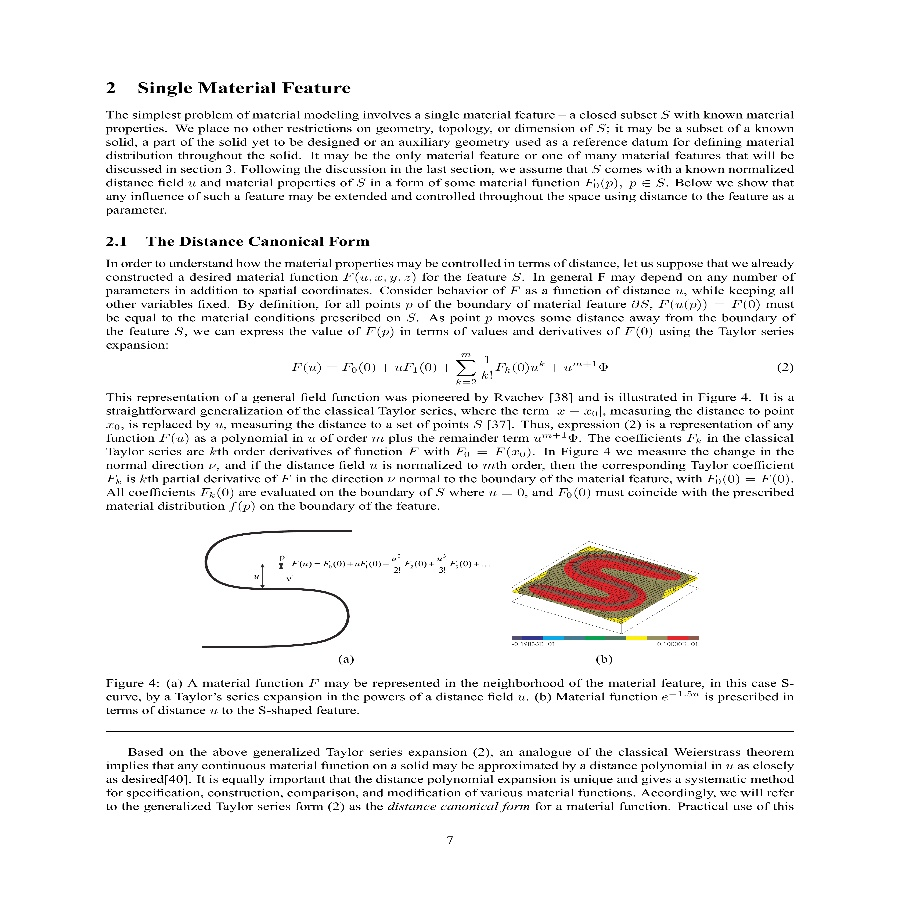eq: (287, 348, 621, 388)
